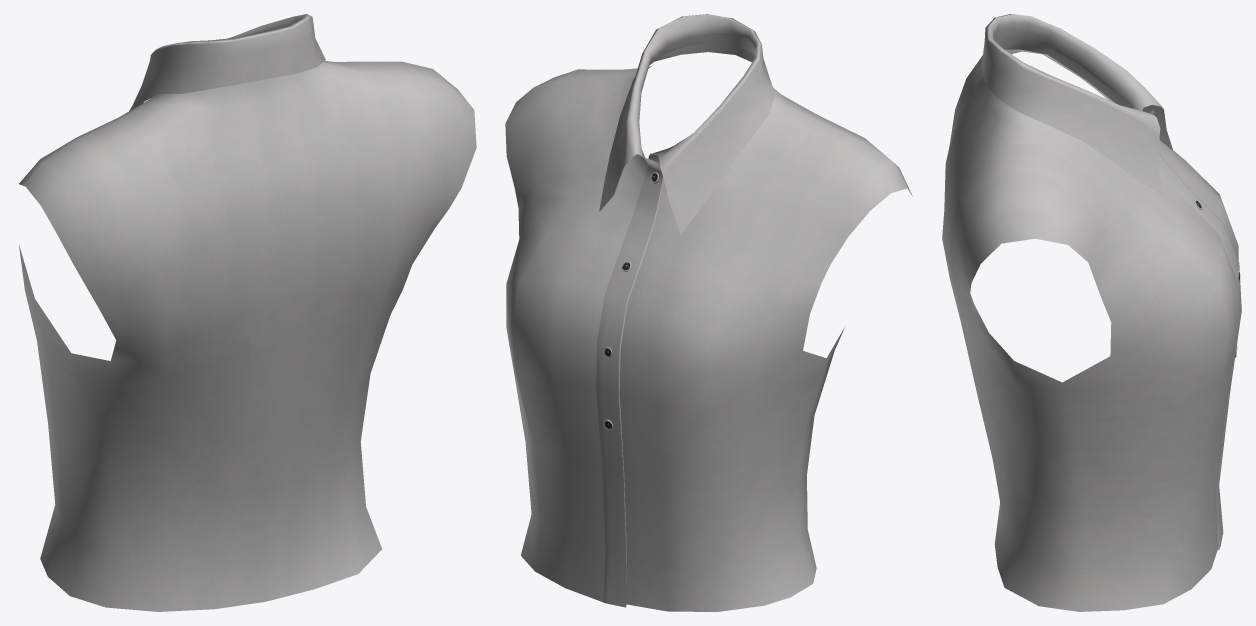
Rendered from LLSQ5ZS_chengyi.gltf.
The picture shows the model from 3 angles, left to right: view 1: azimuth 30°, elevation 25°; view 2: azimuth 150°, elevation 25°; view 3: azimuth 270°, elevation 25°; orthographic projection. The views are drawn at different scales.
Parts seen in each view (by area): view 1: LLSQ5ZS_chengyi_gaigou; view 2: LLSQ5ZS_chengyi_gaigou; view 3: LLSQ5ZS_chengyi_gaigou.
Boxes of the visible parts, x1,y1,x2,y2 form: LLSQ5ZS_chengyi_gaigou: (19,14,476,611); LLSQ5ZS_chengyi_gaigou: (505,14,912,611); LLSQ5ZS_chengyi_gaigou: (942,14,1241,611).
Size of the model in its own units: 34.03 by 43.39 by 22.78.
2 materials, 2 textured.
